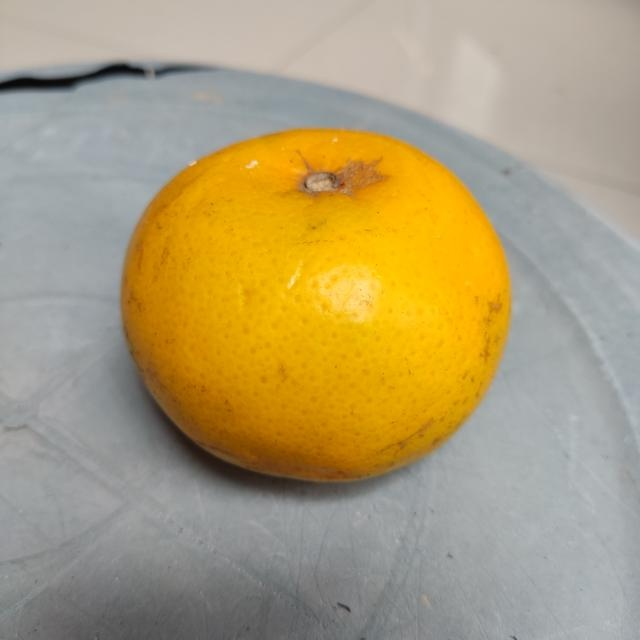agrume: (120, 126, 512, 483)
